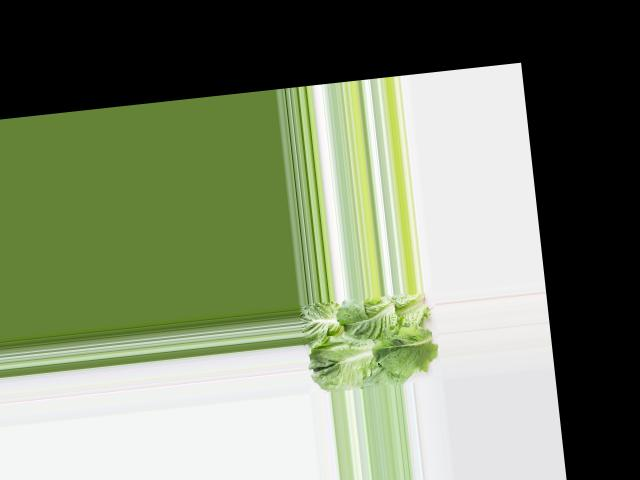lettuce: (301, 289, 437, 391)
